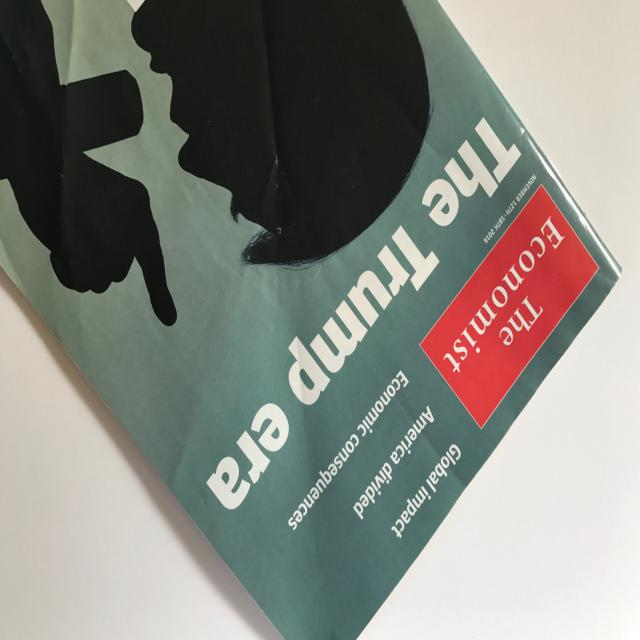paper: (0, 0, 622, 633)
